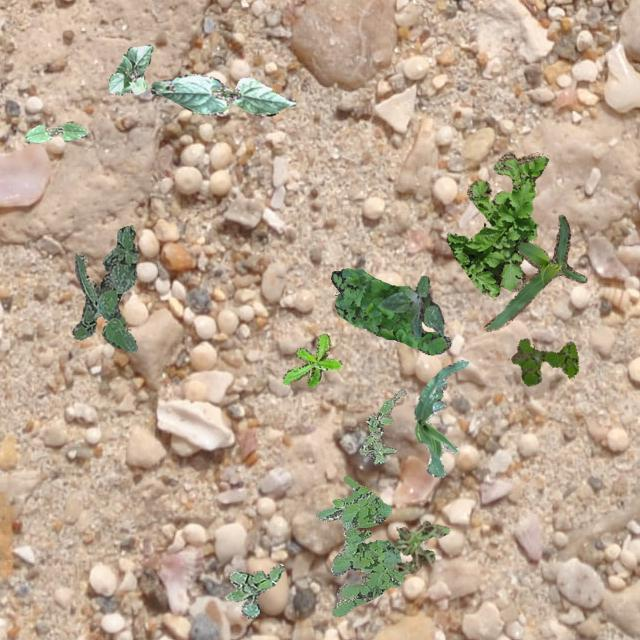crop: (482, 214, 586, 330), (414, 358, 466, 476), (150, 72, 294, 114), (108, 44, 152, 94), (24, 120, 86, 142)
weed: (446, 150, 548, 296), (316, 474, 402, 616), (330, 266, 450, 354), (72, 225, 138, 352), (378, 274, 444, 336), (358, 388, 406, 464), (224, 562, 282, 618), (282, 332, 341, 386), (510, 338, 578, 384), (392, 520, 448, 572)
